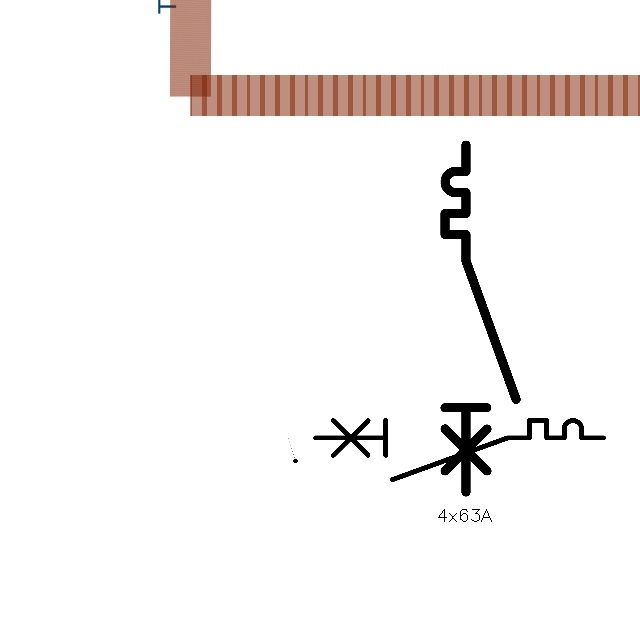interruptor_termomagnetico: (436, 136, 525, 501), (308, 413, 611, 487)
